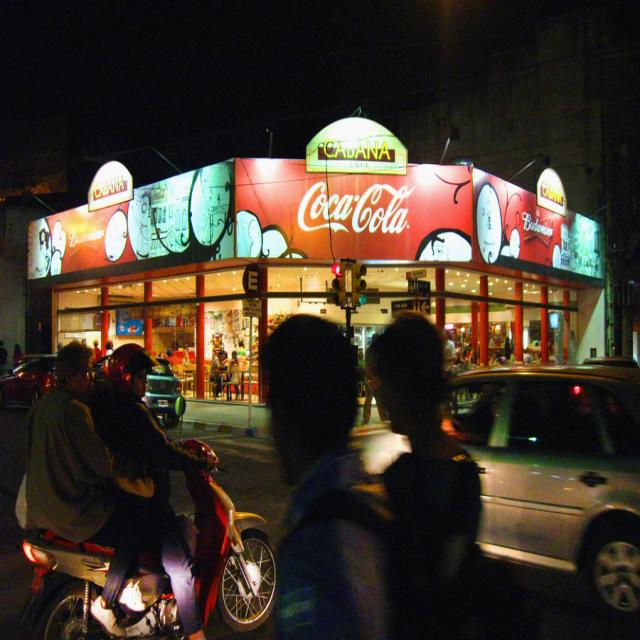Motorbike: (8, 399, 282, 640)
People: (363, 285, 517, 632), (253, 309, 414, 640), (103, 333, 240, 640), (26, 326, 125, 640), (209, 349, 227, 389), (0, 332, 17, 374), (12, 340, 32, 372), (228, 343, 240, 388)
car: (345, 314, 640, 640)
